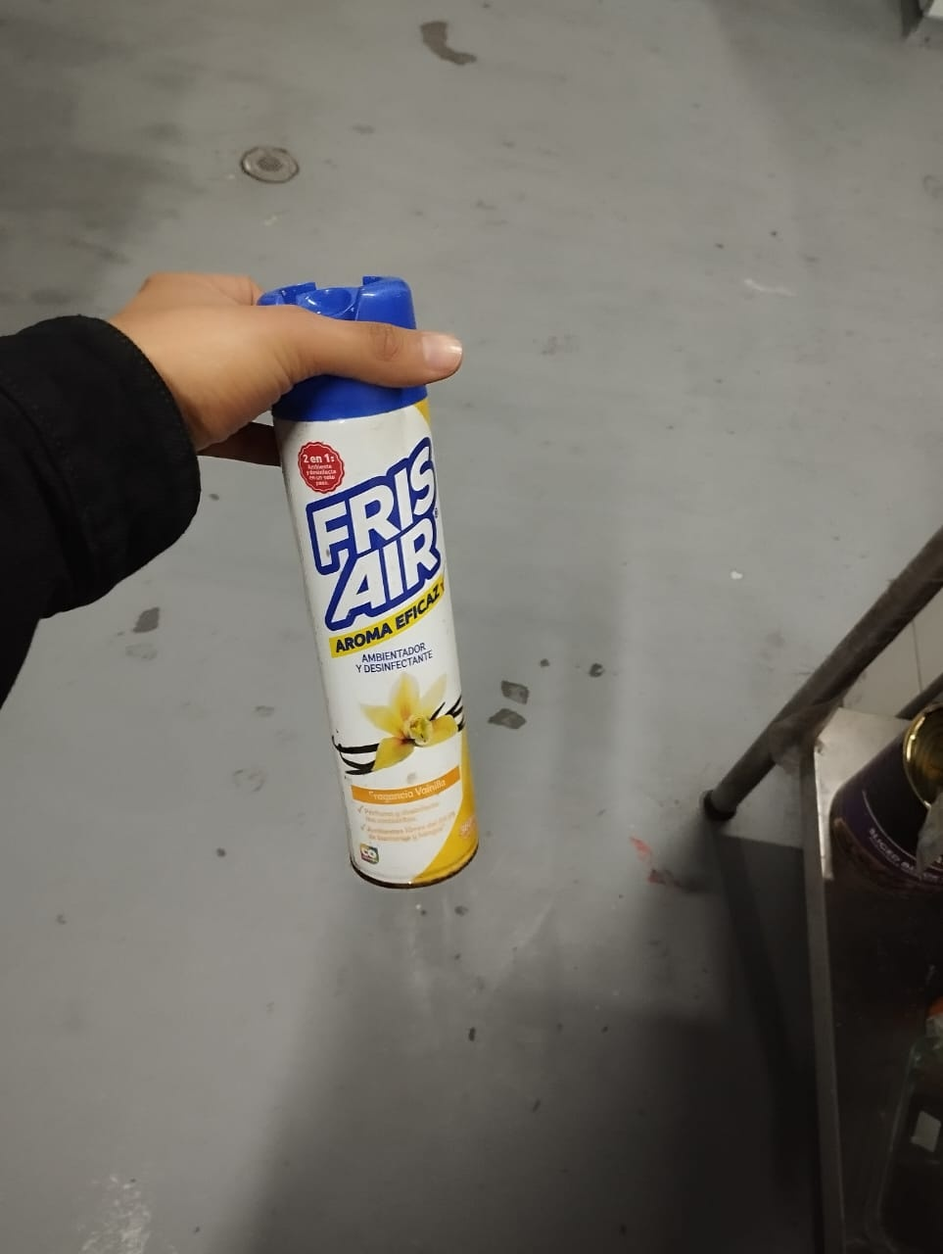Metal: (273, 404, 475, 883)
